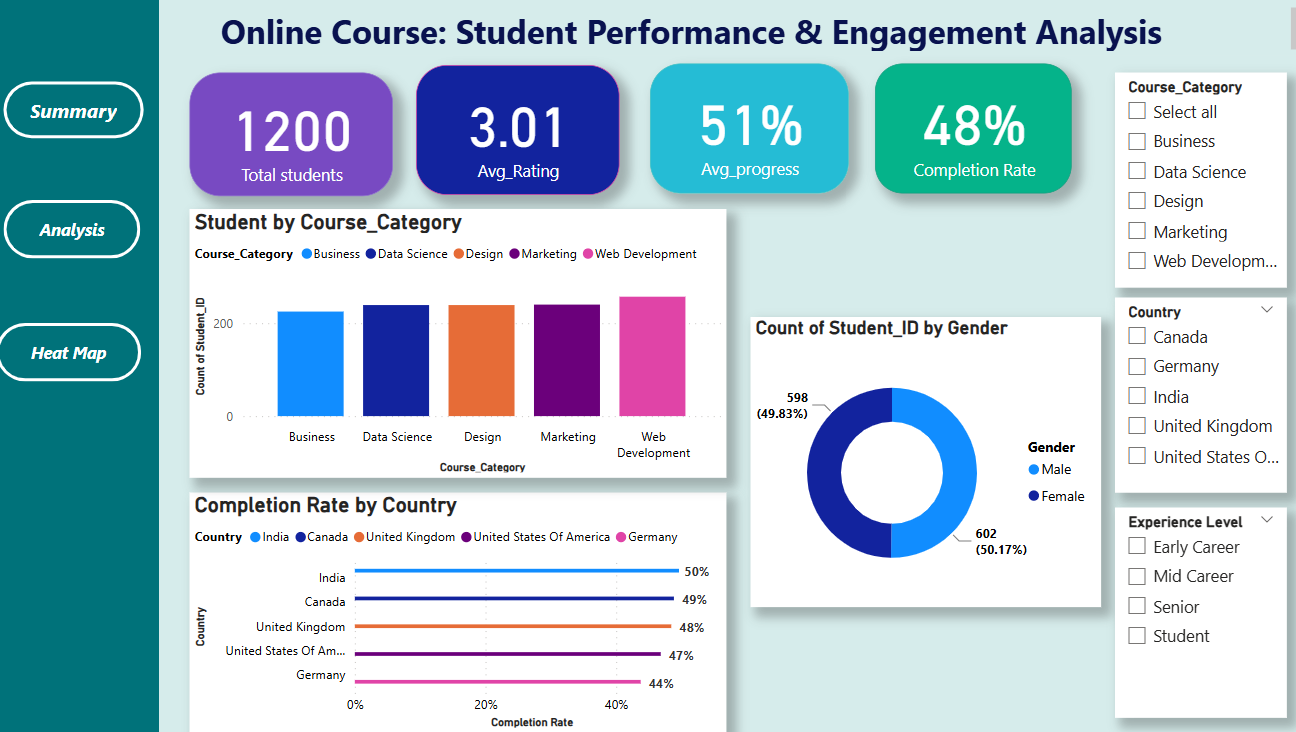

The dashboard page shown, as its layout file describes it:
{"tool":"powerbi","page":{"name":"Page 1","canvas":[1280,720],"ordinal":0},"visuals":[{"type":"card","fields":{"Values":["Final.Total students"]},"box":[199,79.3,197.4,119.7],"z":0},{"type":"card","fields":{"Values":["Final.Avg_progress"]},"box":[645.6,71.2,192.5,126.2],"z":1000},{"type":"card","fields":{"Values":["Final.Avg_Rating"]},"box":[419.1,72.8,197.4,126.2],"z":2000},{"type":"card","fields":{"Values":["Final.Completion Rate"]},"box":[864,71.2,190.9,126.2],"z":3000},{"type":"clusteredBarChart","title":"Completion Rate by Country ","fields":{"Category":["Final.Country"],"Y":["Final.Completion Rate"],"Series":["Final.Country"]},"box":[199,487,521,233],"z":4000},{"type":"columnChart","title":" Student by Course_Category","fields":{"Category":["Final.Course_Category Hierarchy.Course_Name","Final.Course_Category Hierarchy.Name","Final.Course_Category Hierarchy.Gender","Final.Course_Category"],"Y":["CountNonNull(Final.Student_ID)"],"Series":["Final.Course_Category"]},"box":[199,212,521,260.5],"z":5000},{"type":"slicer","fields":{"Values":["Final.Course_Category"]},"box":[1097,79.3,166.7,208.7],"z":6000},{"type":"donutChart","fields":{"Category":["Final.Gender"],"Y":["CountNonNull(Final.Student_ID)"]},"box":[742.7,317.1,339.8,281.5],"z":7000},{"type":"textbox","box":[223.3,11.3,1056.5,51.8],"z":8000},{"type":"slicer","fields":{"Values":["Final.Country"]},"box":[1097,297.7,166.7,189.3],"z":9000},{"type":"textbox","box":[4.9,0,165,720],"z":10000},{"type":"actionButton","box":[11.3,323.6,140.8,56.6],"z":11000},{"type":"actionButton","box":[19.4,203.9,132.7,56.6],"z":12000},{"type":"actionButton","box":[19.4,89,135.9,55],"z":13000},{"type":"slicer","fields":{"Values":["Final.Experience Level"]},"box":[1097,501.6,166.7,203.9],"z":14000}]}

Visuals, with their boxes in screenshot pixels (x1, y1, x2, y2), scaled from the page's 1280x720 canvas onto the 1296x732 screenshot:
card - Final.Total students: bbox=(201, 81, 401, 202)
card - Final.Avg_progress: bbox=(654, 72, 849, 201)
card - Final.Avg_Rating: bbox=(424, 74, 624, 202)
card - Final.Completion Rate: bbox=(875, 72, 1068, 201)
"Completion Rate by Country " clusteredBarChart: bbox=(201, 495, 729, 731)
" Student by Course_Category" columnChart: bbox=(201, 216, 729, 480)
slicer - Final.Course_Category: bbox=(1111, 81, 1279, 293)
donutChart - Final.Gender x CountNonNull(Final.Student_ID): bbox=(752, 322, 1096, 609)
textbox: bbox=(226, 11, 1295, 64)
slicer - Final.Country: bbox=(1111, 303, 1279, 495)
textbox: bbox=(5, 0, 172, 731)
actionButton: bbox=(11, 329, 154, 387)
actionButton: bbox=(20, 207, 154, 265)
actionButton: bbox=(20, 90, 157, 146)
slicer - Final.Experience Level: bbox=(1111, 510, 1279, 717)
